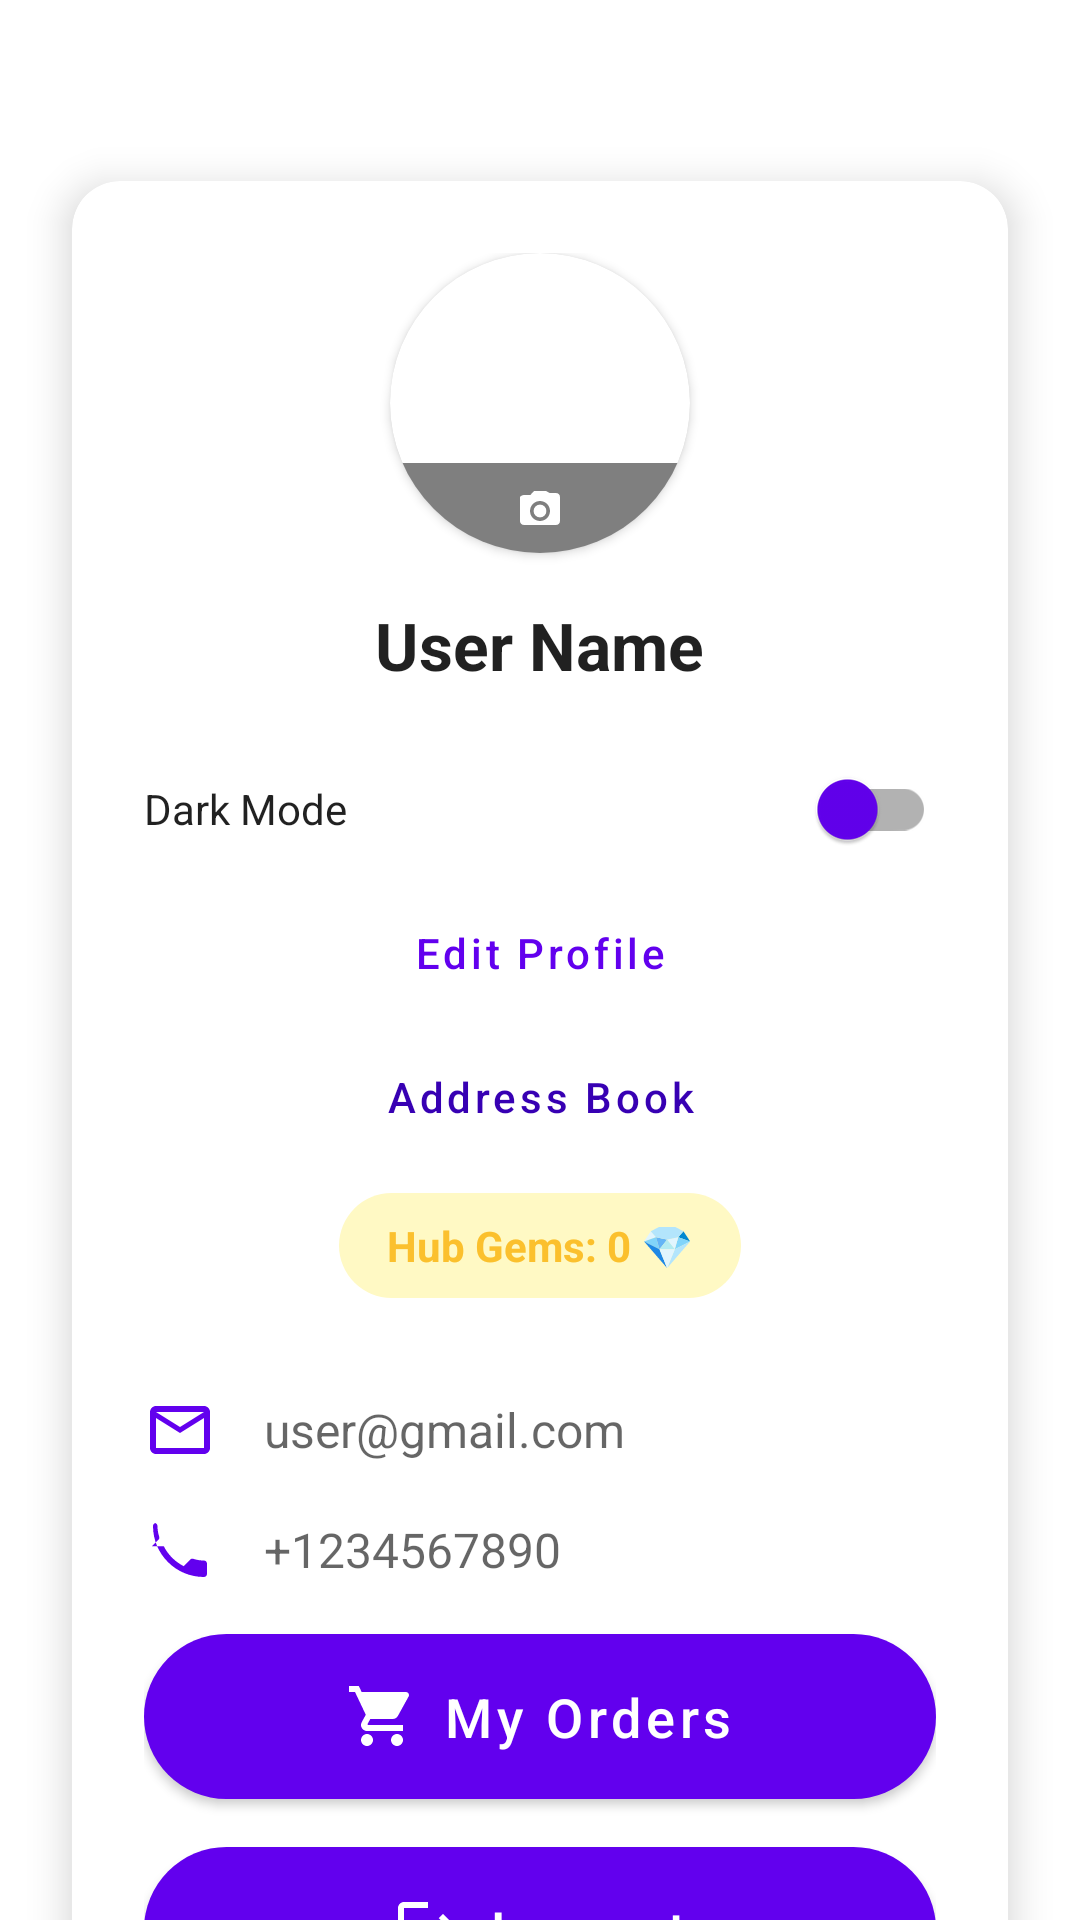

Named icons in this screenshot (1080 x 1920) and their centers, (x=x, y=y):
camera: (x=540, y=508)
email: (x=180, y=1430)
phone: (x=179, y=1550)
